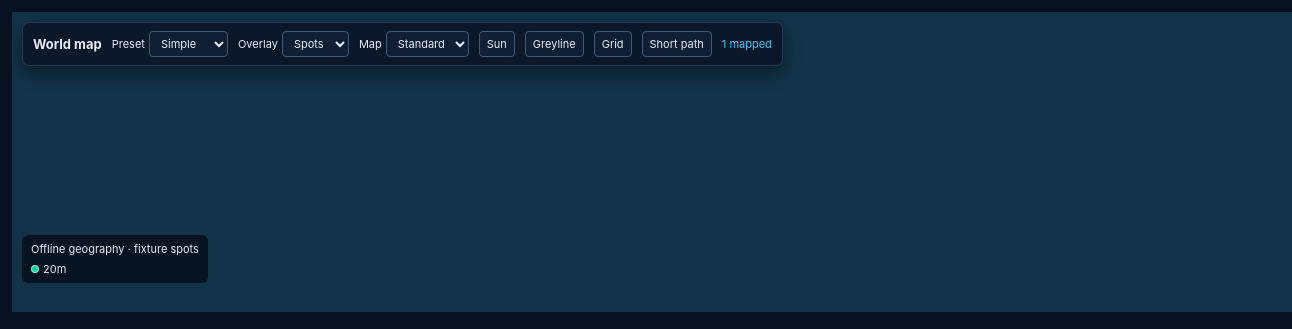
Test case: map spot inspection › provides hover and keyboard-focus details at world zoom without tuning or fetching
The width and height of the screenshot is (1292, 329).
Step 1. Hover over the button named "K1ABC · 14.074.0 MHz · 20m · FT8. Activate to tune." → (21, 21), box [12,12,30,30]
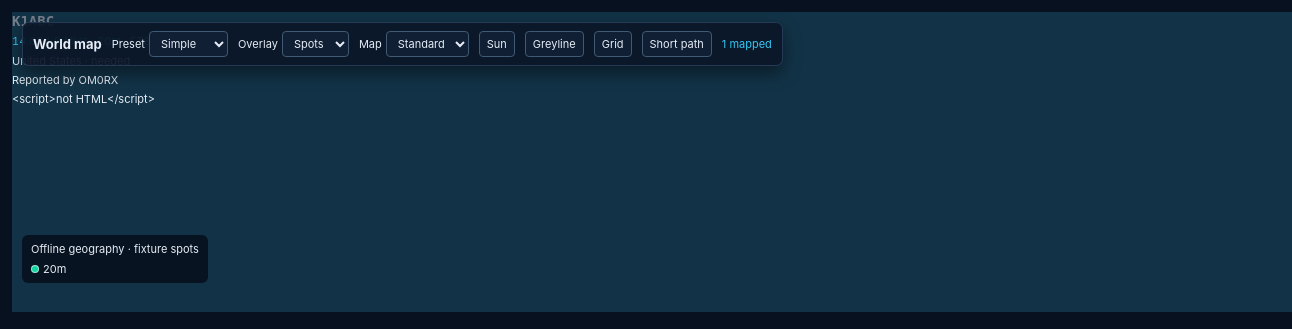
Expected: the tooltip shows "Reported by OM0RX", [12,73,118,87]
Step 2. Move the pointer off the button named "K1ABC · 14.074.0 MHz · 20m · FT8. Activate to tune.", box [12,12,30,30]
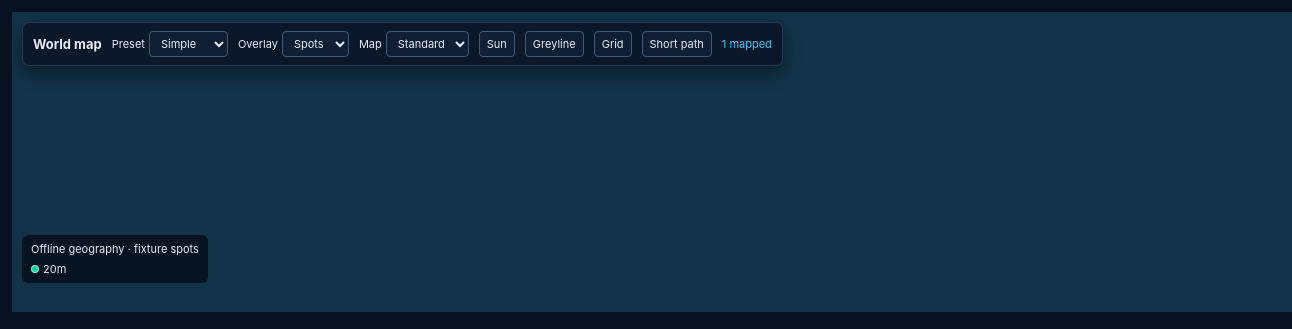
Expected: the tooltip is gone
Step 3. Focus the button named "K1ABC · 14.074.0 MHz · 20m · FT8. Activate to tune." → (21, 21), box [12,12,30,30]
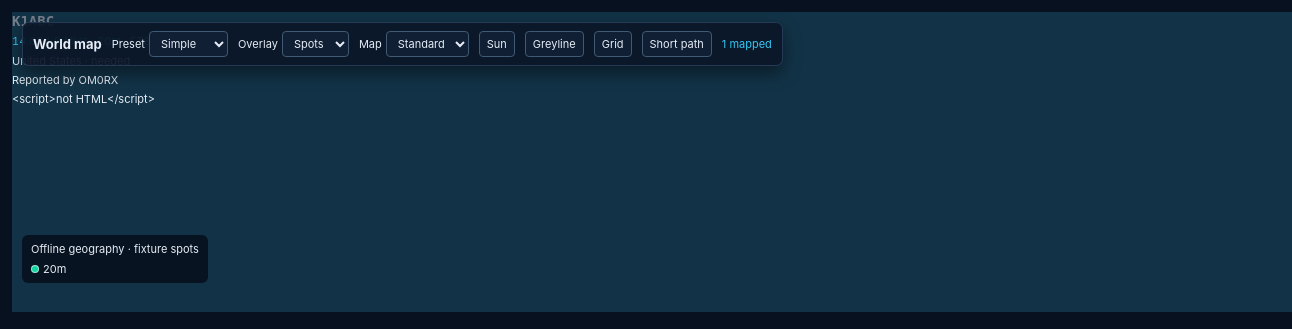
Expected: the tooltip shows "14.074.0 MHz", [12,34,151,48]
Step 4. Press Escape in the button named "K1ABC · 14.074.0 MHz · 20m · FT8. Activate to tune.", box [12,12,30,30]
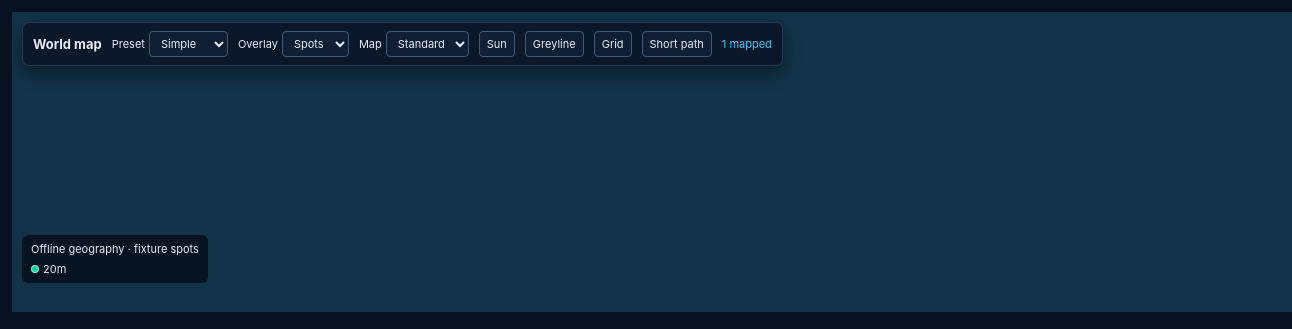
Expected: the tooltip is gone
